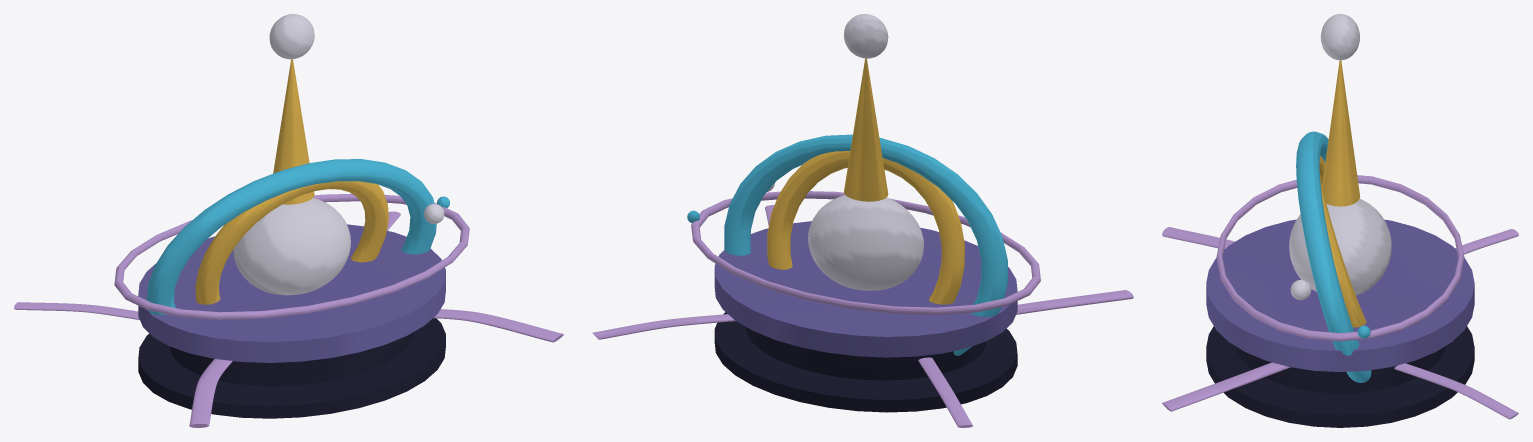
The model's file is 0055_天文图鉴_星座.glb.
3 views of the same model, side by side, from view 1: azimuth 30°, elevation 25°; view 2: azimuth 150°, elevation 25°; view 3: azimuth 270°, elevation 25° (orthographic).
Visible parts, largest first — view 1: card_0055; view 2: card_0055; view 3: card_0055.
Part boxes in pixels (x1,y1,x2,y2): card_0055: [14, 14, 563, 427]; card_0055: [592, 14, 1133, 427]; card_0055: [1162, 14, 1518, 427].
Bounding box in the file's own units: 1.16 × 1 × 0.9258.
